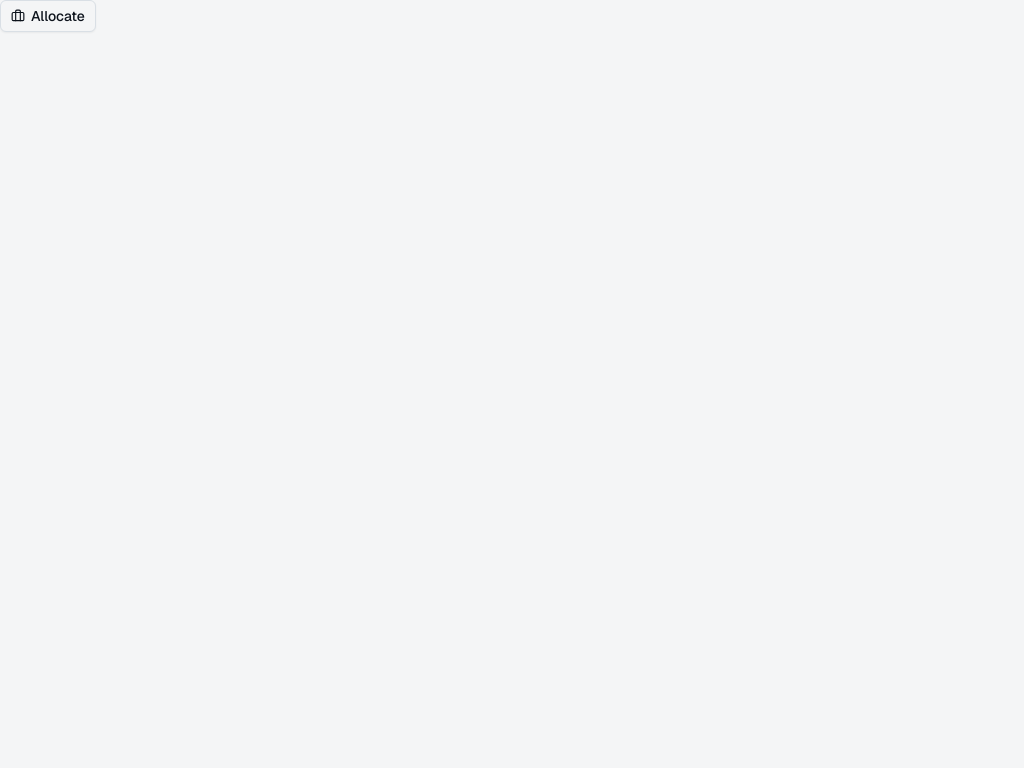
Test: <AllocateSalesButton> › opens the Allocate dialog title when unassigned
The image size is (1024, 768).
Click the button "Allocate" at (48, 16), box [0,0,96,32]
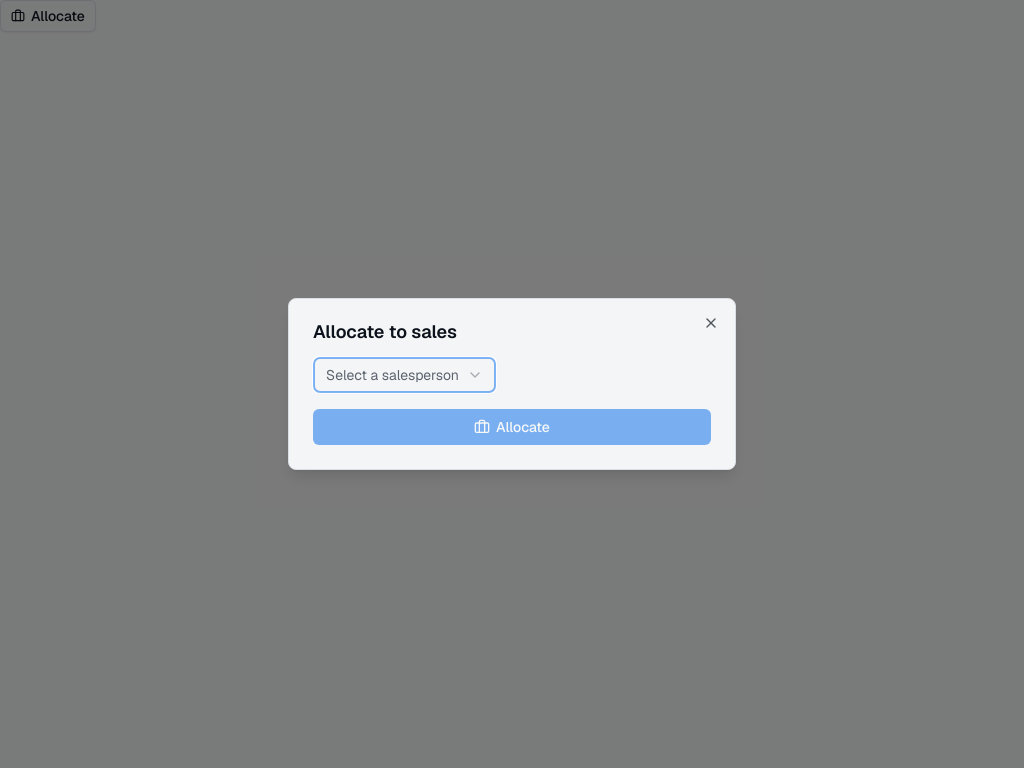
Expected: the dialog is shown, [288,298,736,470]
Expected: the heading "Allocate to sales" is shown, [313,320,457,343]
